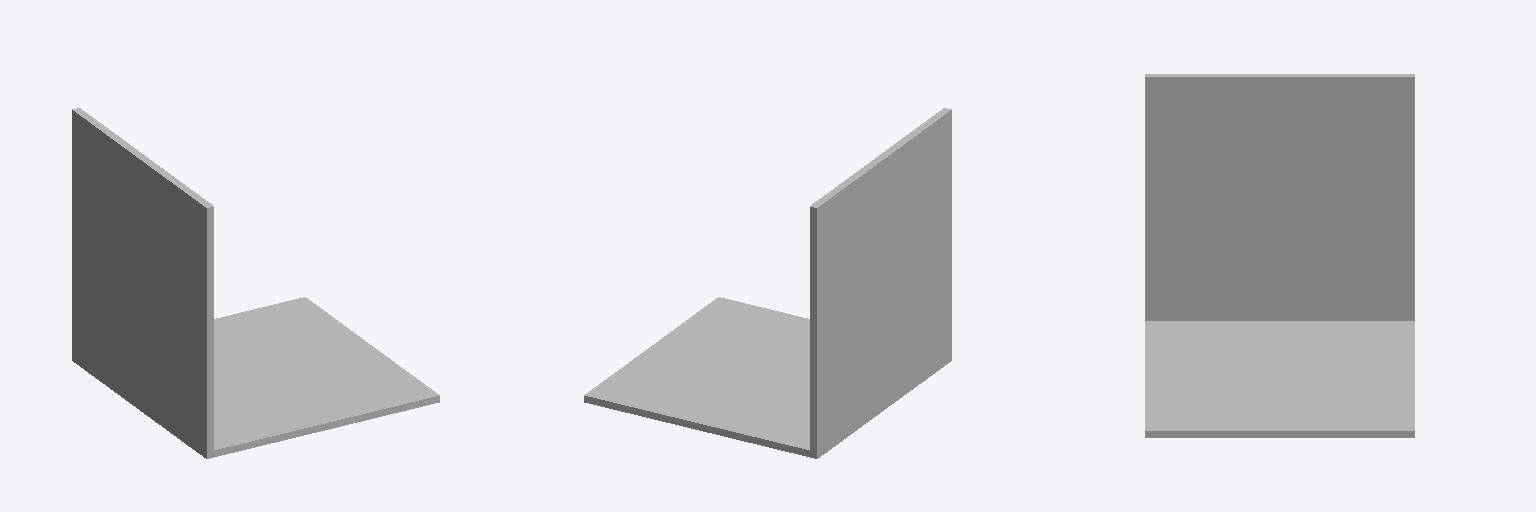
Rendered from MetersWallTest.obj.
The picture shows the model from 3 angles: view 1: azimuth 30°, elevation 25°; view 2: azimuth 150°, elevation 25°; view 3: azimuth 270°, elevation 25°; orthographic projection.
Visible parts, largest first — view 1: pCube851; view 2: pCube851; view 3: pCube851.
Boxes of the visible parts, <box> form: pCube851: <box>72,108,439,458</box>; pCube851: <box>584,108,951,458</box>; pCube851: <box>1145,74,1414,437</box>.
Bounding box in the file's own units: 300 × 309 × 300.